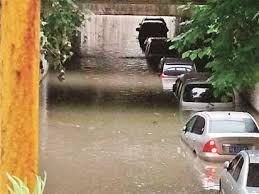water: (37, 40, 223, 193), (234, 84, 258, 126)
